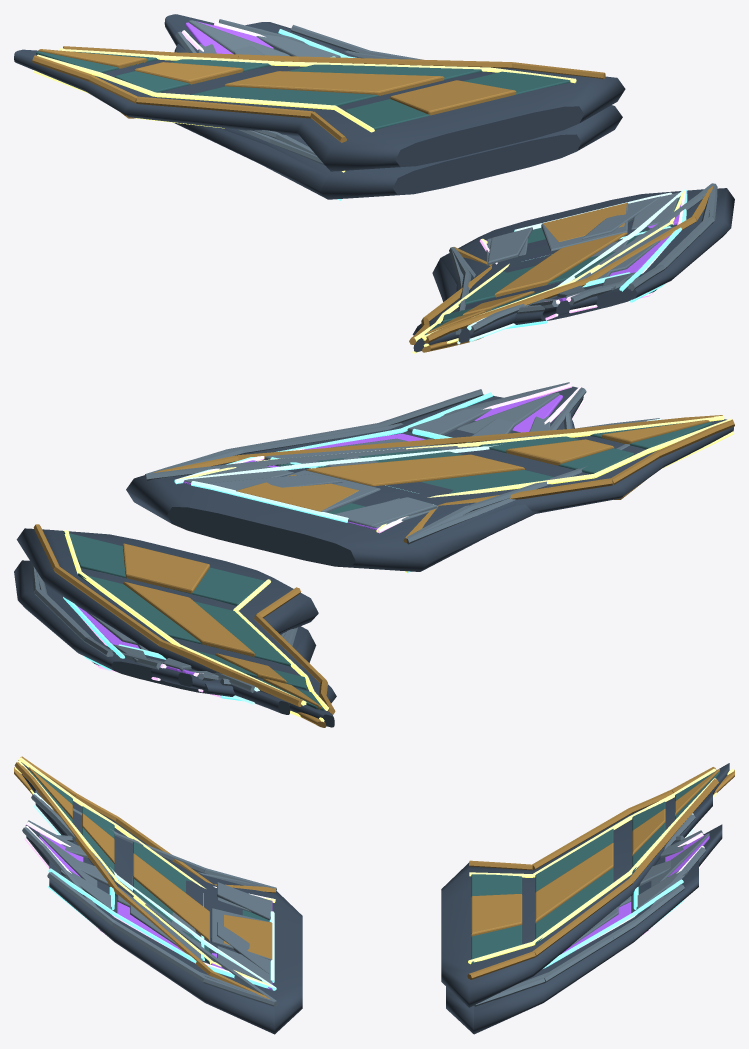
Rendered from wings.glb.
3 renders of one model, top to bottom at view 1: azimuth 30°, elevation 25°; view 2: azimuth 150°, elevation 25°; view 3: azimuth 270°, elevation 25°, orthographic. The views are drawn at different scales.
Parts seen in each view (by area): view 1: w_phantom Fitting gunmetal, w_phantom Champagne gold edging, w_razor Fitting gunmetal, w_phantom Phantom blue-black enamel, w_vane Fitting gunmetal, w_vane Brushed fitting edges, w_phantom w_phantom emitter, w_razor Brushed fitting edges, w_prism Brushed fitting edges, w_vane w_vane emitter, w_prism Fitting gunmetal, w_prism Violet prismatic glass (+2 smaller); view 2: w_phantom Champagne gold edging, w_razor Fitting gunmetal, w_phantom Fitting gunmetal, w_phantom Phantom blue-black enamel, w_vane Fitting gunmetal, w_vane Brushed fitting edges, w_razor Brushed fitting edges, w_prism Brushed fitting edges, w_phantom w_phantom emitter, w_vane w_vane emitter, w_razor w_razor emitter, w_prism Violet prismatic glass (+2 smaller); view 3: w_phantom Champagne gold edging, w_phantom Fitting gunmetal, w_vane Fitting gunmetal, w_phantom Phantom blue-black enamel, w_vane Brushed fitting edges, w_razor Fitting gunmetal, w_razor Brushed fitting edges, w_prism Brushed fitting edges, w_phantom w_phantom emitter, w_vane w_vane emitter, w_prism Violet prismatic glass, w_razor w_razor emitter (+2 smaller).
Part boxes in pixels (x1,y1,x2,y2): w_phantom Fitting gunmetal: (14,49,699,352); w_phantom Champagne gold edging: (32,46,713,352); w_razor Fitting gunmetal: (220,106,701,342); w_phantom Phantom blue-black enamel: (36,51,680,334); w_vane Fitting gunmetal: (174,22,734,324); w_vane Brushed fitting edges: (198,25,717,313); w_phantom w_phantom emitter: (33,48,685,353); w_razor Brushed fitting edges: (254,130,713,334); w_prism Brushed fitting edges: (175,19,715,308); w_vane w_vane emitter: (278,29,687,328); w_prism Fitting gunmetal: (164,14,701,317); w_prism Violet prismatic glass: (185,21,687,301); w_phantom Champagne gold edging: (33,415,734,727); w_razor Fitting gunmetal: (126,465,522,714); w_phantom Fitting gunmetal: (16,419,733,727); w_phantom Phantom blue-black enamel: (64,422,712,710); w_vane Fitting gunmetal: (14,394,574,696); w_vane Brushed fitting edges: (31,389,572,685); w_razor Brushed fitting edges: (146,418,659,692); w_prism Brushed fitting edges: (36,382,586,680); w_phantom w_phantom emitter: (64,415,734,721); w_vane w_vane emitter: (63,392,492,700); w_razor w_razor emitter: (175,418,660,704); w_prism Violet prismatic glass: (67,393,562,675); w_phantom Champagne gold edging: (14,756,734,999); w_phantom Fitting gunmetal: (21,762,729,1007); w_vane Fitting gunmetal: (49,841,698,1034); w_phantom Phantom blue-black enamel: (28,770,719,990); w_vane Brushed fitting edges: (47,835,687,1006); w_razor Fitting gunmetal: (35,792,712,1034); w_razor Brushed fitting edges: (31,790,695,1005); w_prism Brushed fitting edges: (22,820,709,1001); w_phantom w_phantom emitter: (14,757,734,986); w_vane w_vane emitter: (48,868,683,990); w_prism Violet prismatic glass: (39,833,709,990); w_razor w_razor emitter: (33,793,694,990).
Bounding box in the file's own units: 36.17 × 7.05 × 54.33.
